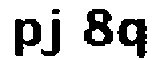8: (81, 7, 114, 48)
j: (41, 7, 69, 60)
p: (10, 15, 42, 58)
q: (117, 14, 152, 60)
